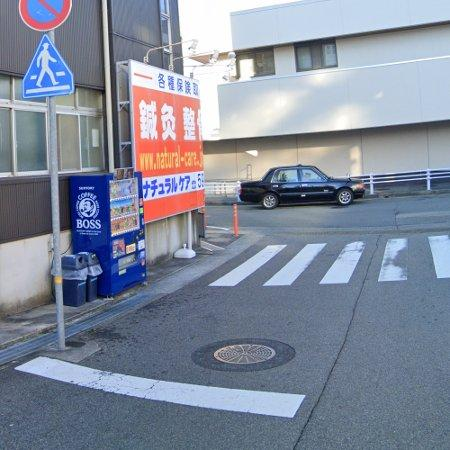crosswalks: (206, 233, 450, 286)
